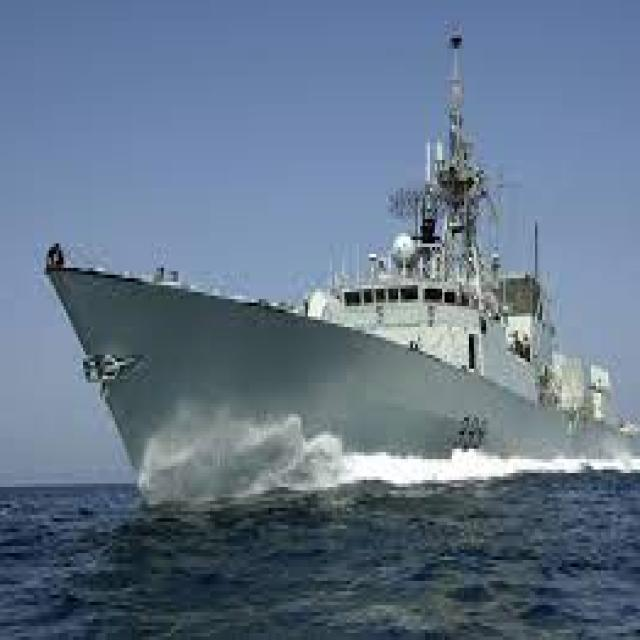navalvessels: (36, 24, 640, 514)
